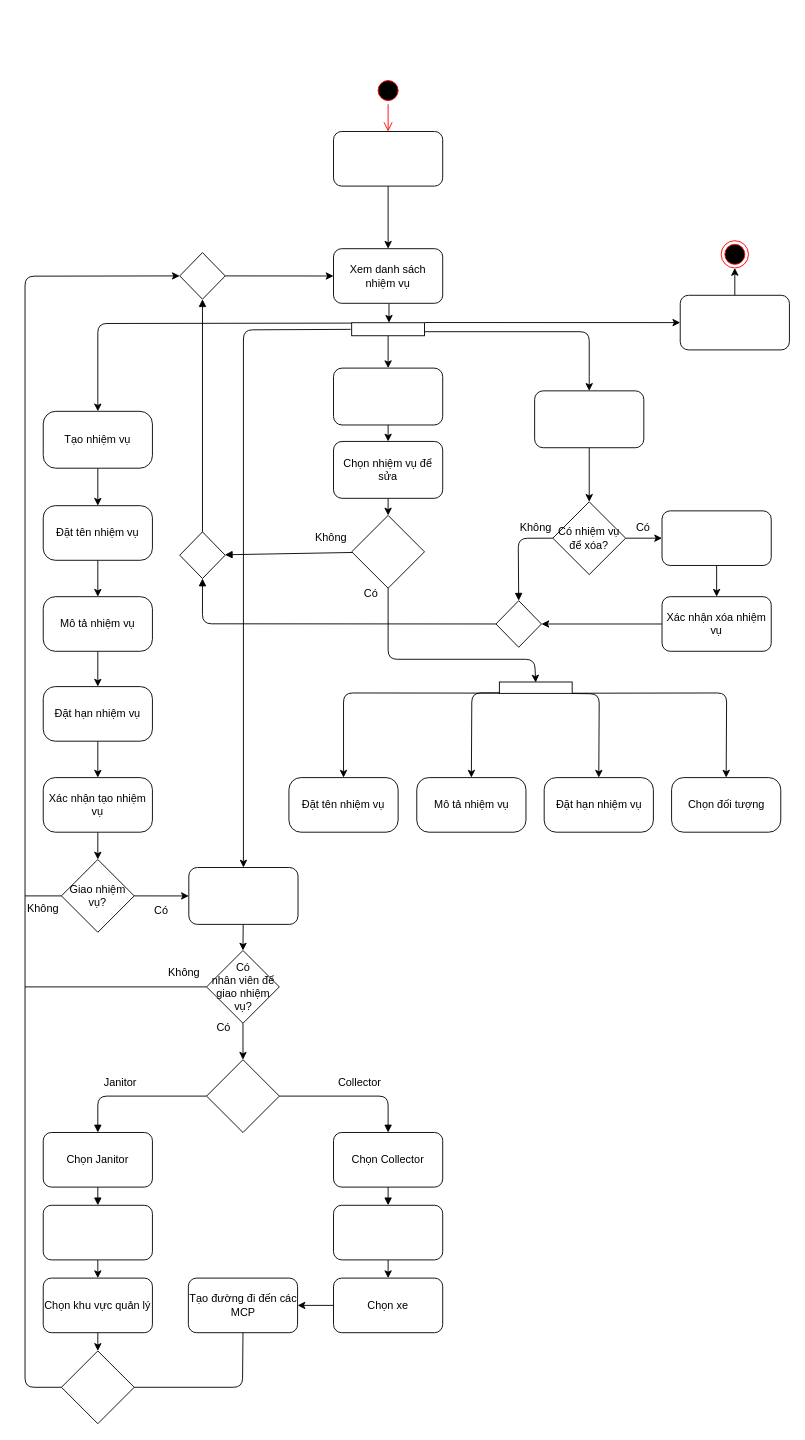
This 805x1440 diagram has some shape labels left out. Each missing label, with the centre of its shape:
Chọn các MCP: the point at 388,1232
Chọn MCP: the point at 97,1232
Chọn nhiệm vụ muốn xóa: the point at 716,537
Có nhiệm vụ để sửa?: the point at 388,551
Giao nhiệm vụ: the point at 243,895
Nhiệm vụ giao cho ai?: the point at 242,1095
Sửa nhiệm vụ: the point at 388,396
Xóa nhiệm vụ: the point at 589,419
Đăng nhập: the point at 388,158
Đăng xuất: the point at 734,322
